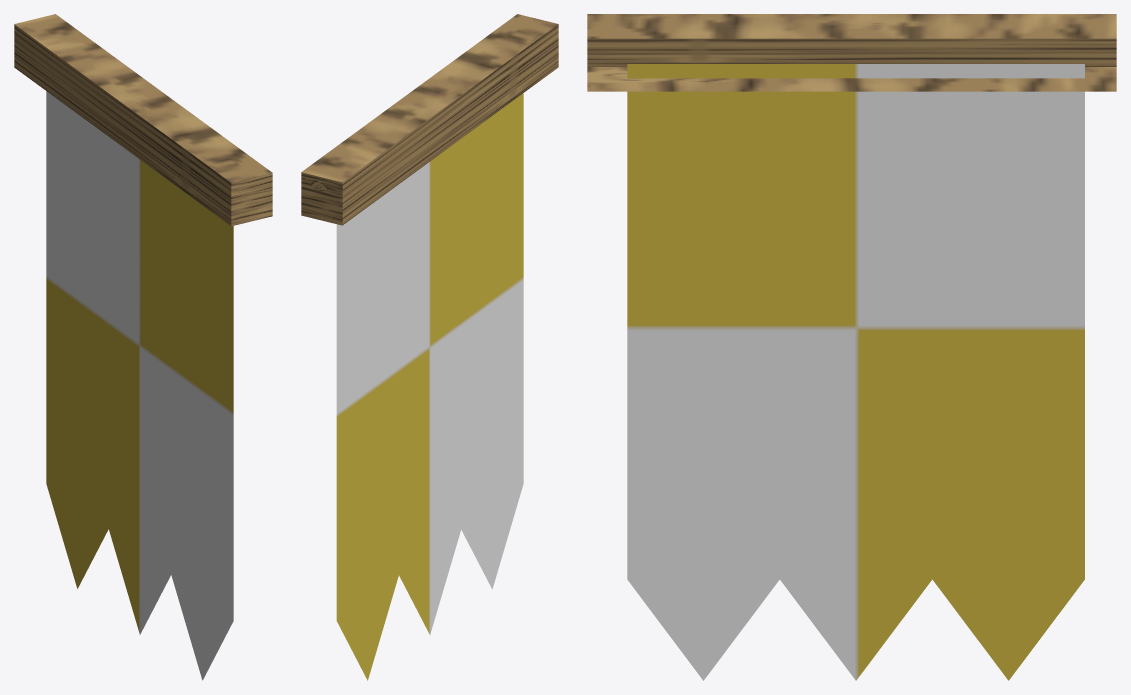
The model's file is hata.fbx.
3 renders of one model, left to right at view 1: azimuth 30°, elevation 25°; view 2: azimuth 150°, elevation 25°; view 3: azimuth 270°, elevation 25°, orthographic. The views are drawn at different scales.
Visible parts, largest first — view 1: pPlane14, pCube56; view 2: pPlane14, pCube56; view 3: pPlane14, pCube56.
Boxes of the visible parts, left/top/right/bottom form: pPlane14: left=46, top=91, right=233, bottom=680; pCube56: left=14, top=14, right=272, bottom=226; pPlane14: left=336, top=93, right=523, bottom=680; pCube56: left=301, top=14, right=558, bottom=225; pPlane14: left=627, top=64, right=1084, bottom=680; pCube56: left=587, top=14, right=1116, bottom=91.
Bounding box in the file's own units: 0.0883 × 1.09 × 0.801.
